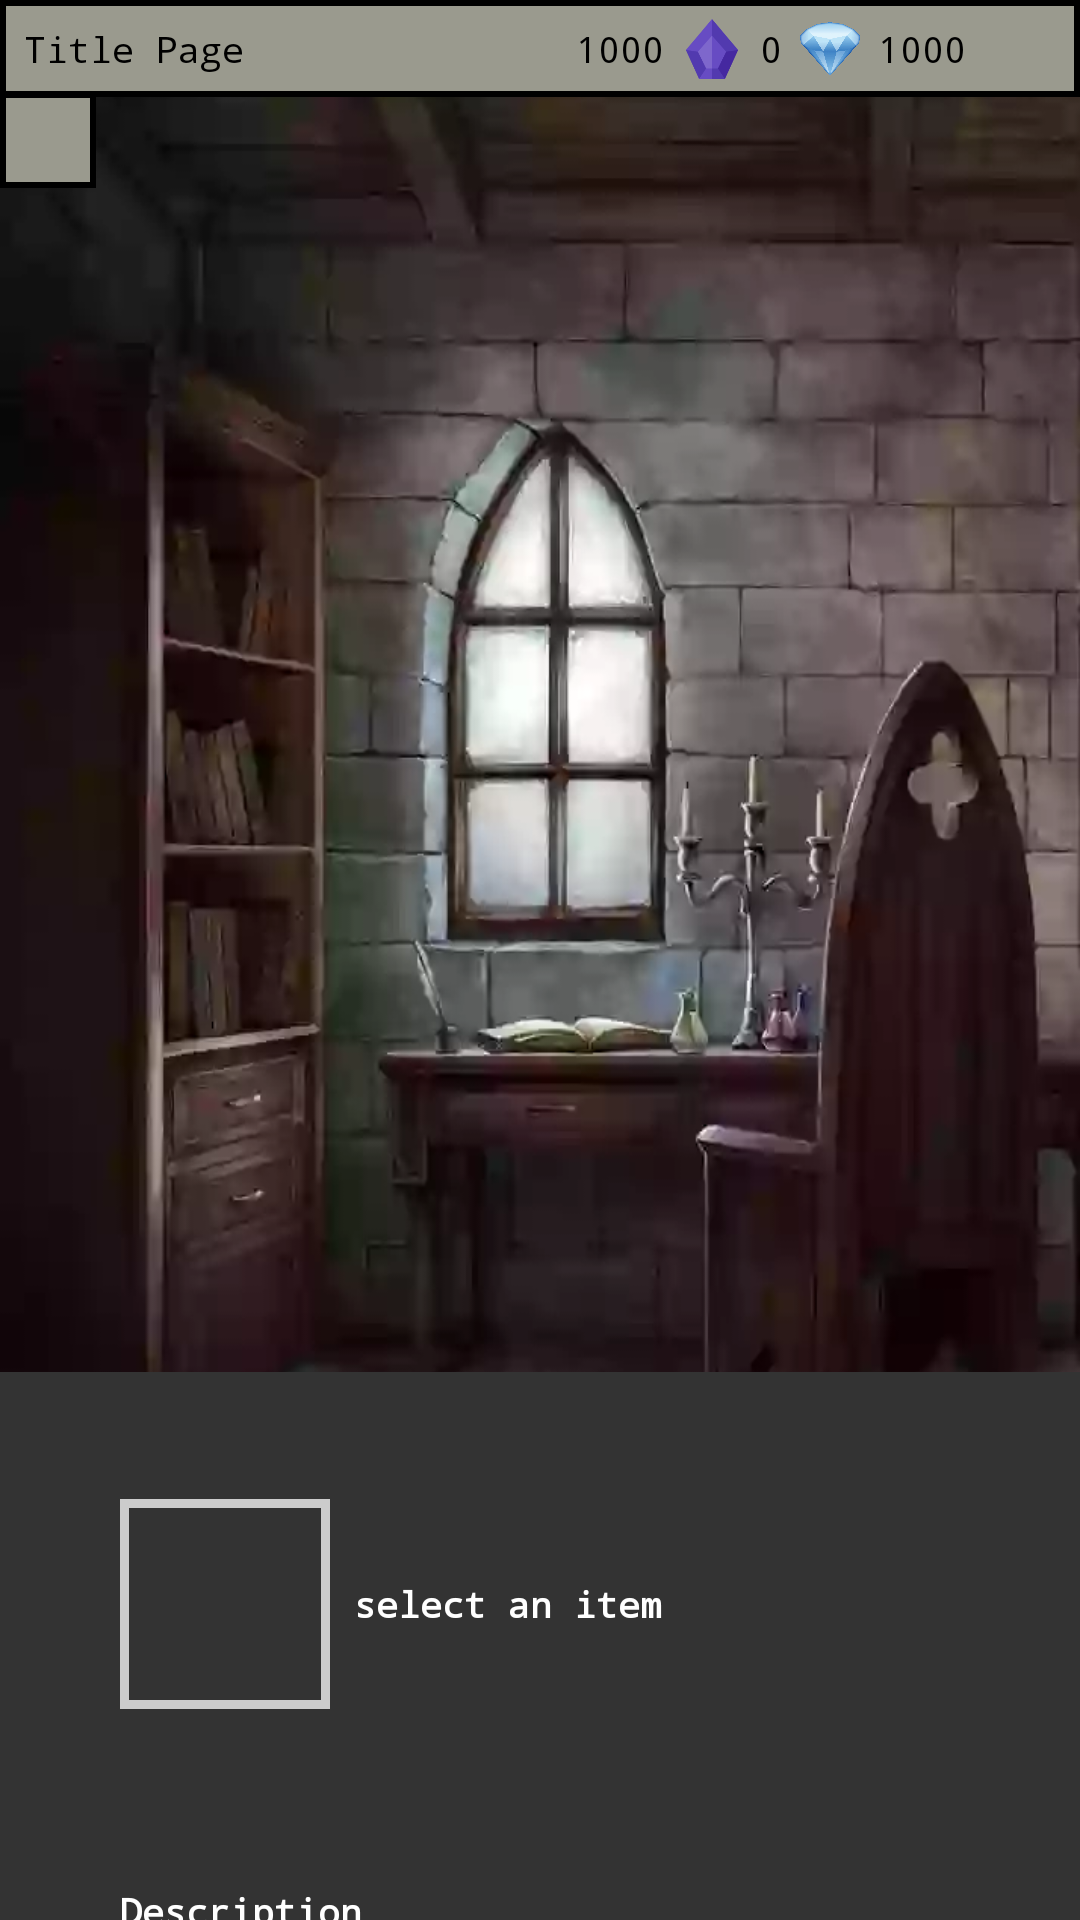

Locate icon controls on the screen. Image size 1080 × 1920, boxes as (x1=x1, y1=y1, x2=x2, y2=y2).
diamond: (x1=800, y1=22, x2=860, y2=75)
